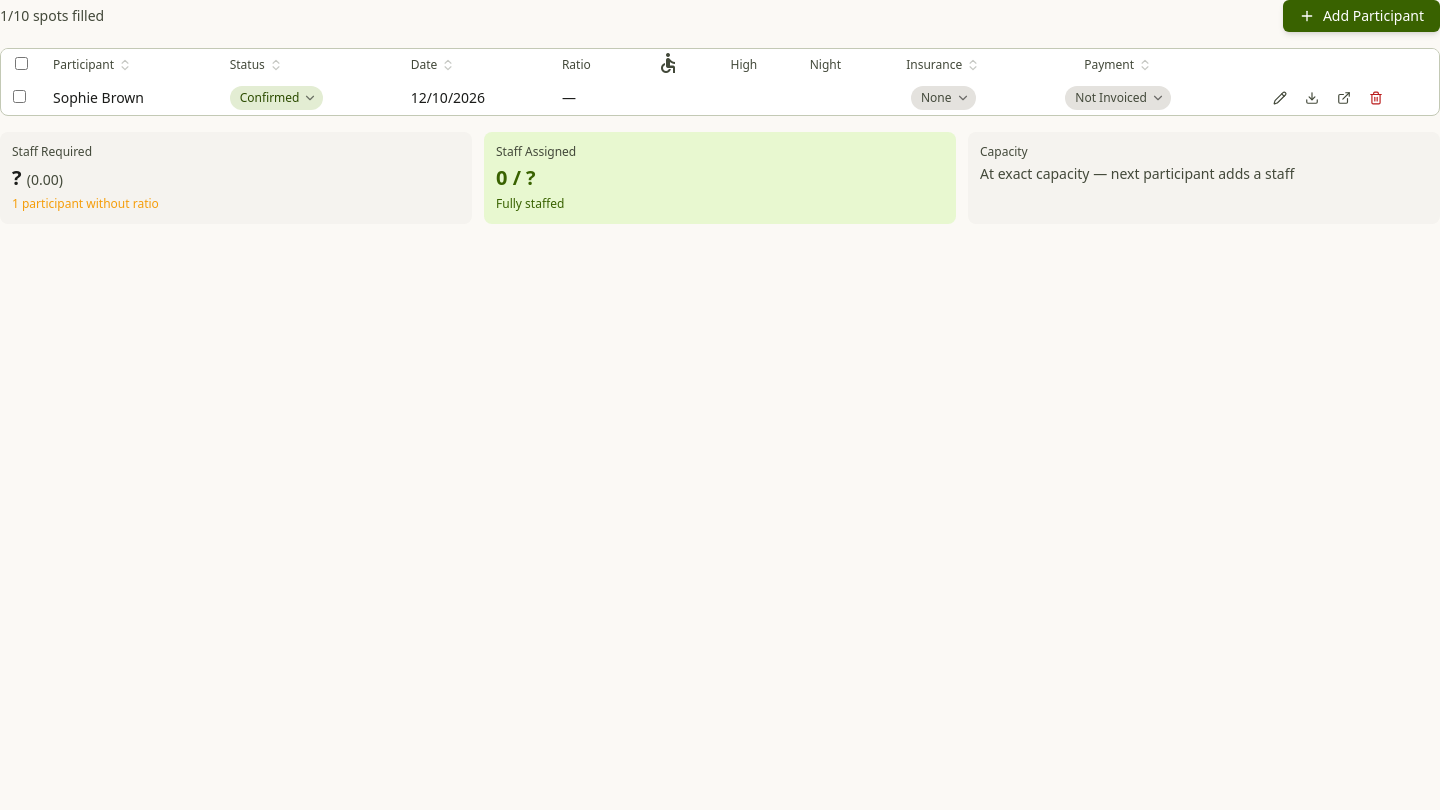
Test: BookingsTab — dialogs › Add Participant to Trip: Escape closes it and focus returns to the opener
The image size is (1440, 810).
Click the button "Add Participant" at (1361, 16), box [1283,0,1439,32]
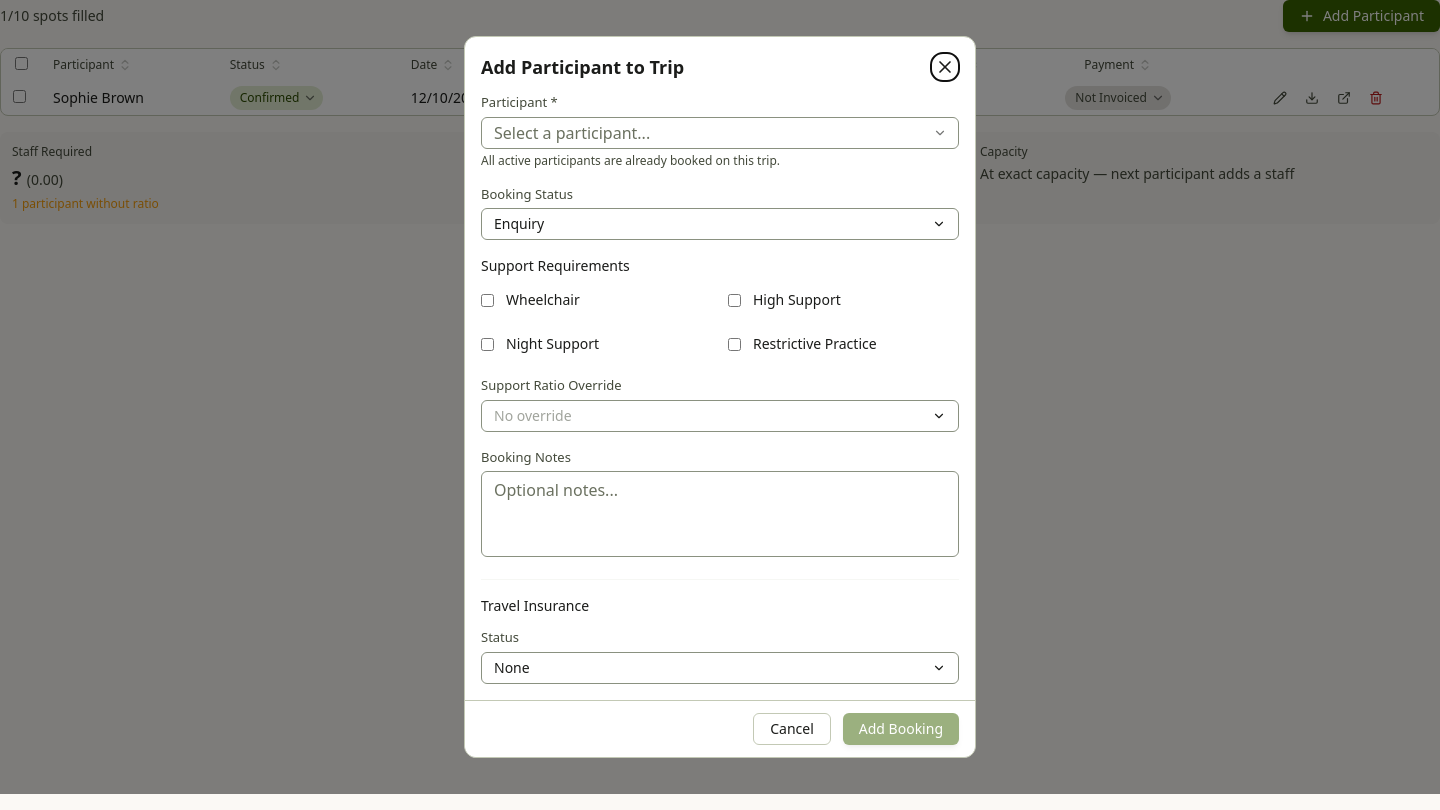
Result: the dialog "Add Participant to Trip" is shown at [464,36,976,758]
Press Escape
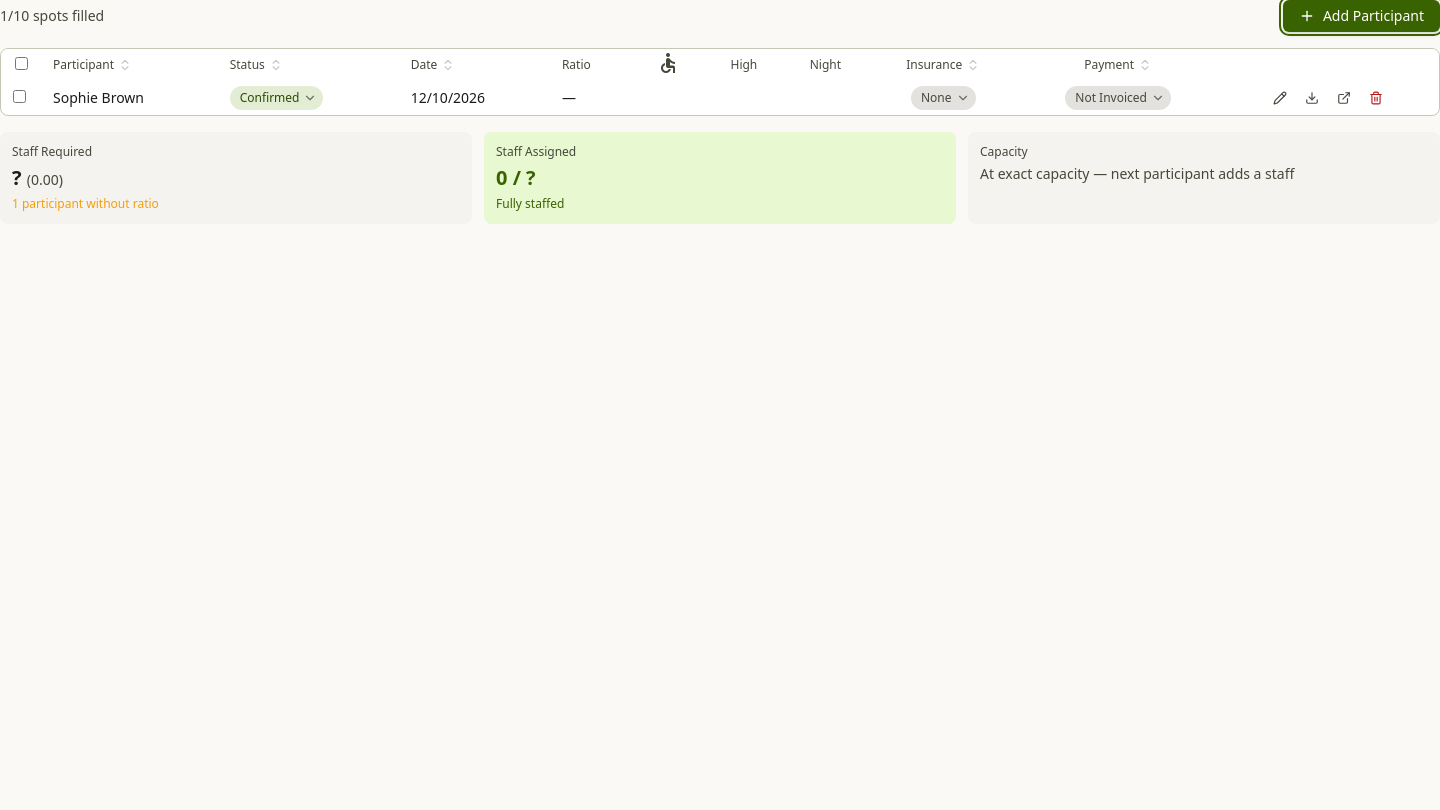
Result: the dialog is gone
